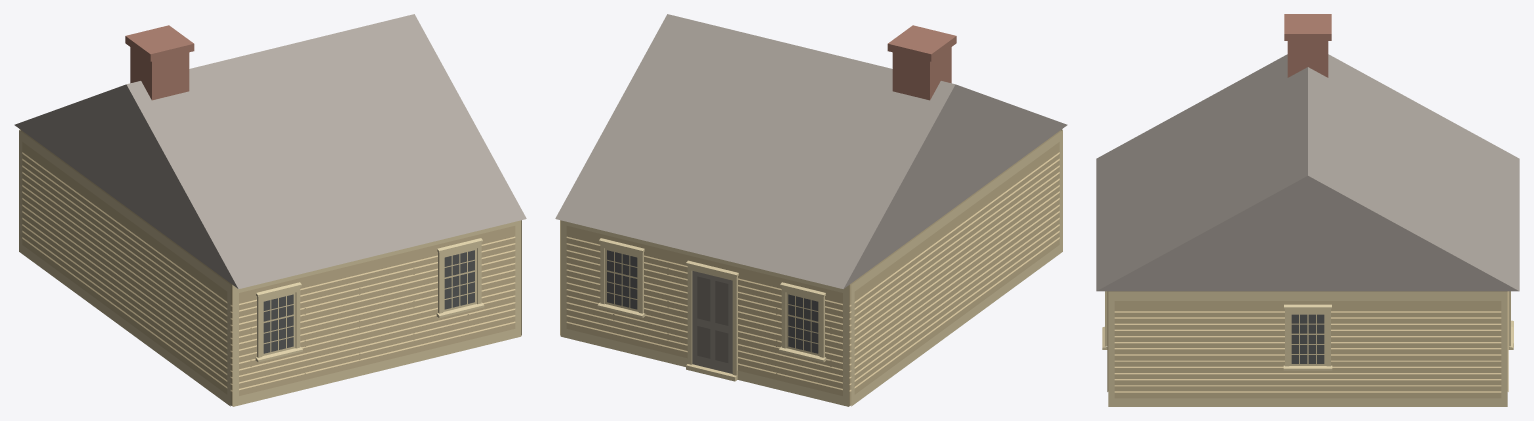
The model's file is recon_1835_blk_south_water_franklin_d4_12__inferred_1835.glb.
3 views of the same model, side by side, from view 1: azimuth 30°, elevation 25°; view 2: azimuth 150°, elevation 25°; view 3: azimuth 270°, elevation 25° (orthographic). The views are drawn at different scales.
Parts seen in each view (by area): view 1: recon_1835_blk_south_water_franklin_d4_12__inferred_1835; view 2: recon_1835_blk_south_water_franklin_d4_12__inferred_1835; view 3: recon_1835_blk_south_water_franklin_d4_12__inferred_1835.
Part boxes in pixels (x1,y1,x2,y2): recon_1835_blk_south_water_franklin_d4_12__inferred_1835: (14, 14, 526, 406); recon_1835_blk_south_water_franklin_d4_12__inferred_1835: (555, 14, 1067, 406); recon_1835_blk_south_water_franklin_d4_12__inferred_1835: (1096, 14, 1519, 406).
Size of the model in its own units: 6.62 by 6.02 by 8.72.
